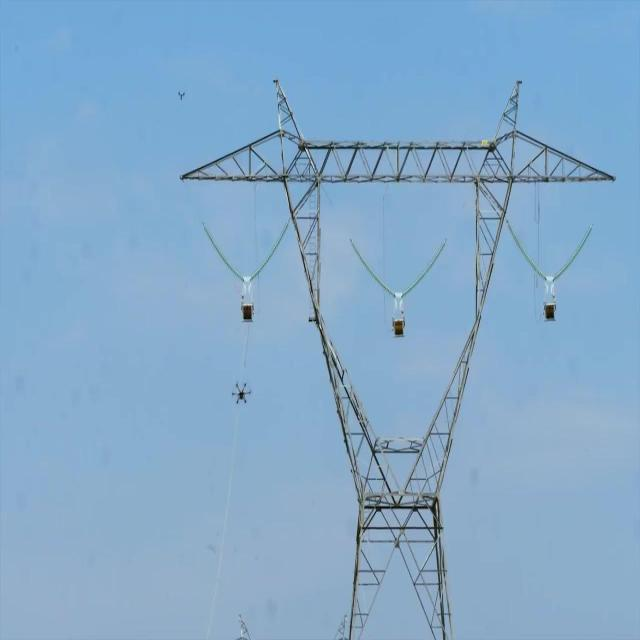drone: (230, 378, 253, 408)
